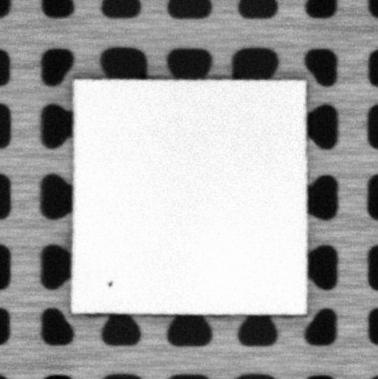DIE_INK: (106, 278, 114, 288)
